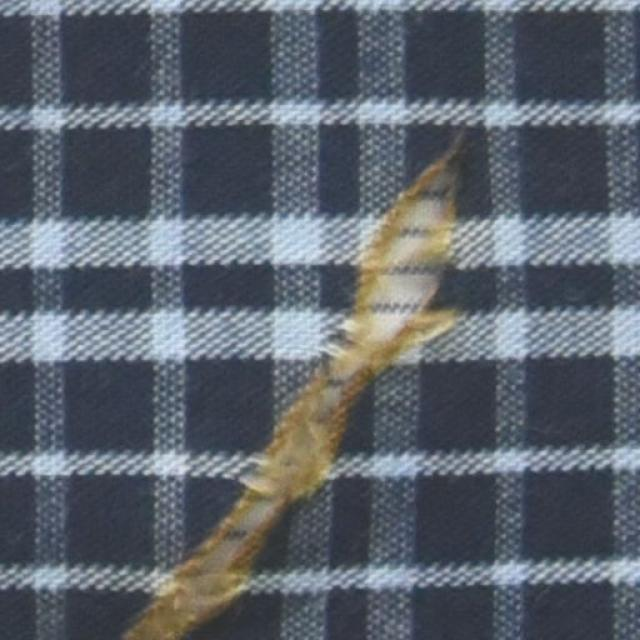Hole: (364, 196, 430, 335)
Stain: (161, 335, 362, 639), (124, 348, 331, 639), (366, 312, 458, 367)
